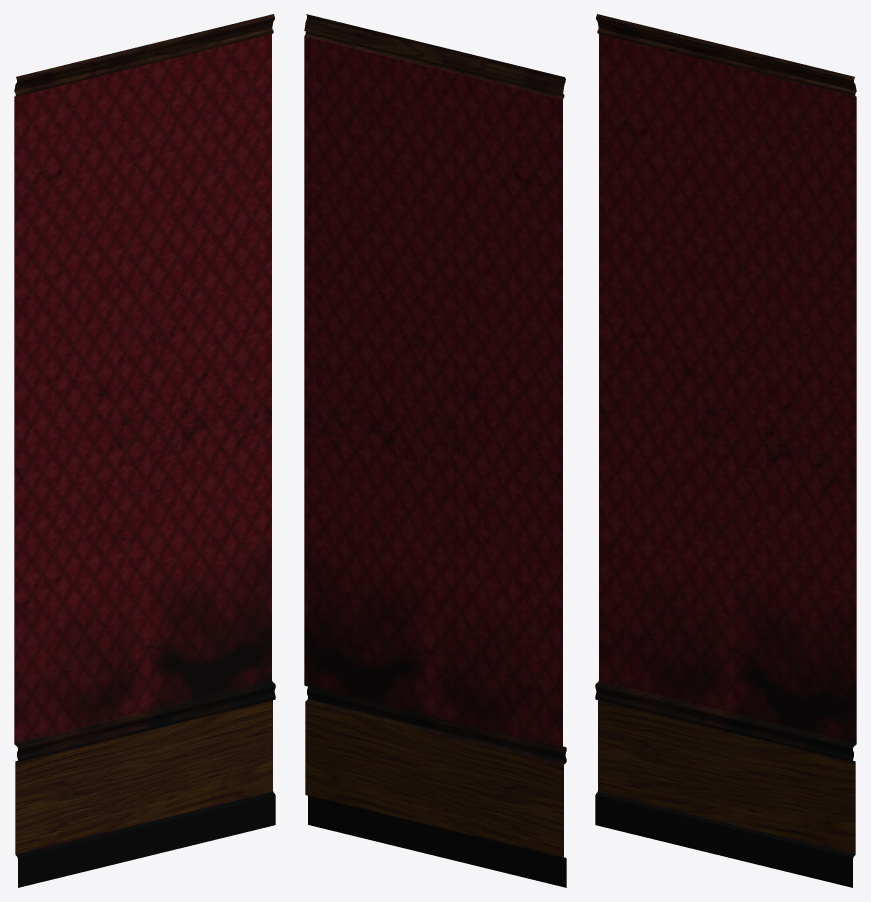
File: Mod_Wall_A_2x6.fbx
The picture shows the model from 3 angles, left to right: view 1: azimuth 30°, elevation 25°; view 2: azimuth 150°, elevation 25°; view 3: azimuth 330°, elevation 25°; orthographic projection.
Visible parts, largest first — view 1: Mod_Wall_A_2x6; view 2: Mod_Wall_A_2x6; view 3: Mod_Wall_A_2x6.
Part boxes in pixels (x1,y1,x2,y2): Mod_Wall_A_2x6: [14, 14, 275, 887]; Mod_Wall_A_2x6: [304, 14, 566, 887]; Mod_Wall_A_2x6: [595, 14, 856, 887].
Size of the model in its own units: 200 by 600 by 5.
1 material, 1 textured.
